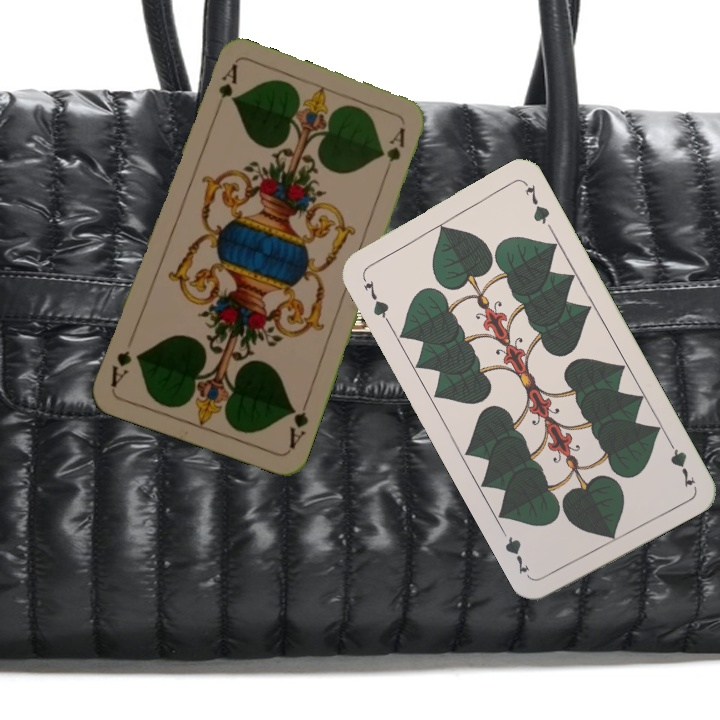G7: (662, 434, 698, 490), (357, 271, 392, 326)
GA: (210, 60, 240, 118), (285, 394, 311, 452)
